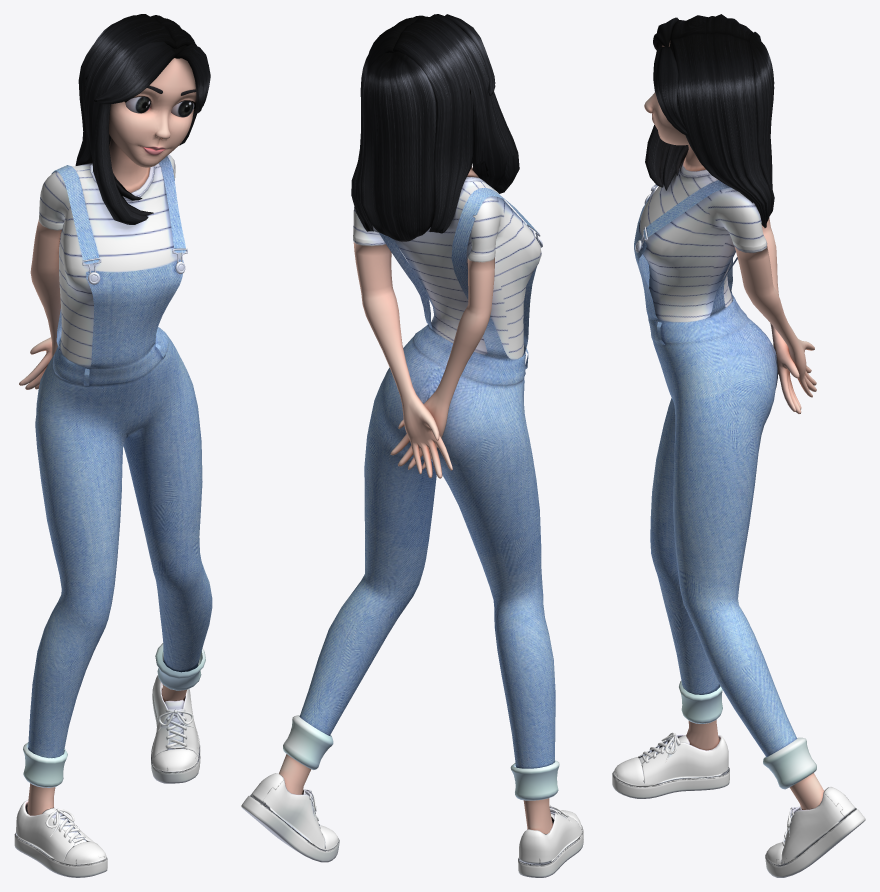
File: Sela.glb
3 views of the same model, side by side, from view 1: azimuth 30°, elevation 25°; view 2: azimuth 150°, elevation 25°; view 3: azimuth 270°, elevation 25° (orthographic). The views are drawn at different scales.
Parts seen in each view (by area): view 1: Body, Head; view 2: Body, Head; view 3: Body, Head.
Part boxes in pixels (x1,y1,x2,y2): Body: [14, 137, 212, 877]; Head: [75, 14, 210, 224]; Body: [241, 166, 583, 877]; Head: [351, 14, 519, 241]; Body: [612, 144, 865, 877]; Head: [644, 14, 774, 227].
Size of the model in its own units: 1.99 by 6.42 by 1.8.
2 materials, 2 textured.
